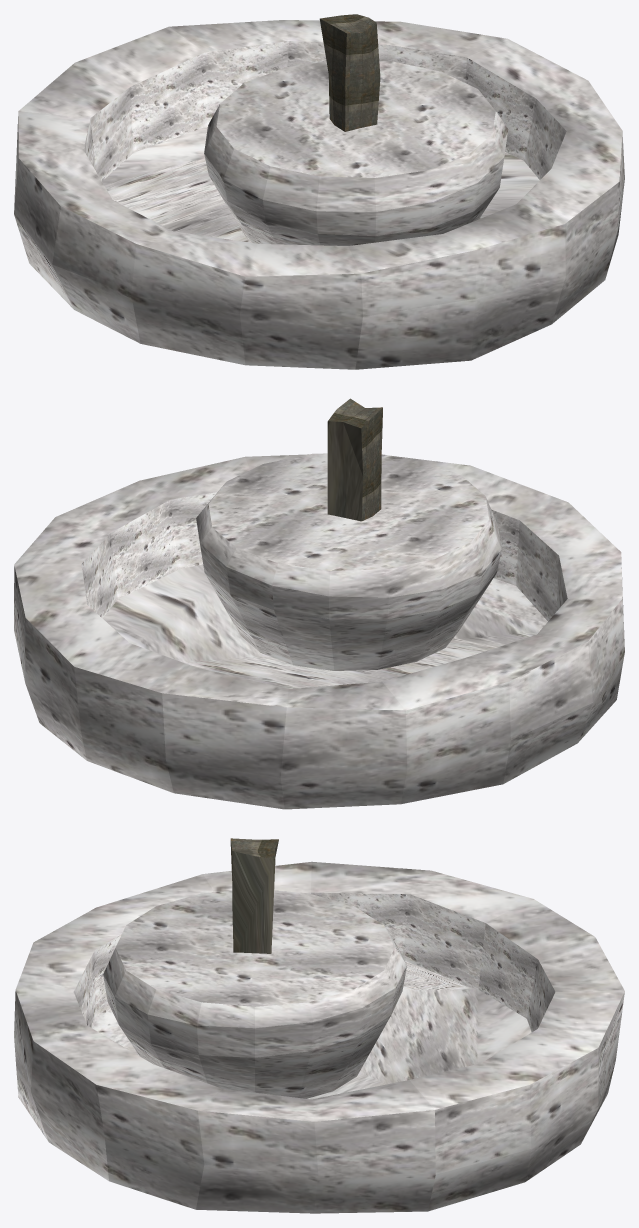
The model's file is millstone.glb.
3 renders of one model, top to bottom at view 1: azimuth 30°, elevation 25°; view 2: azimuth 150°, elevation 25°; view 3: azimuth 270°, elevation 25°, orthographic.
Parts seen in each view (by area): view 1: Cylinder, Cylinder.001; view 2: Cylinder, Cylinder.001; view 3: Cylinder, Cylinder.001.
Part boxes in pixels (left/top/right/bottom): Cylinder: left=14, top=20, right=624, bottom=369; Cylinder.001: left=319, top=14, right=380, bottom=131; Cylinder: left=14, top=453, right=624, bottom=809; Cylinder.001: left=327, top=398, right=382, bottom=521; Cylinder: left=14, top=861, right=624, bottom=1213; Cylinder.001: left=230, top=838, right=278, bottom=953.
Bounding box in the file's own units: 2.01 × 0.9212 × 2.
Materials: 2 (2 with a texture image).
